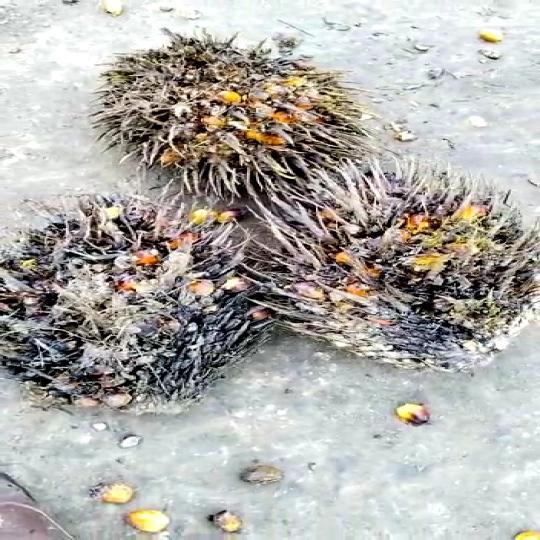terlalu masak: (231, 154, 540, 376), (0, 202, 270, 413), (80, 35, 351, 196)
